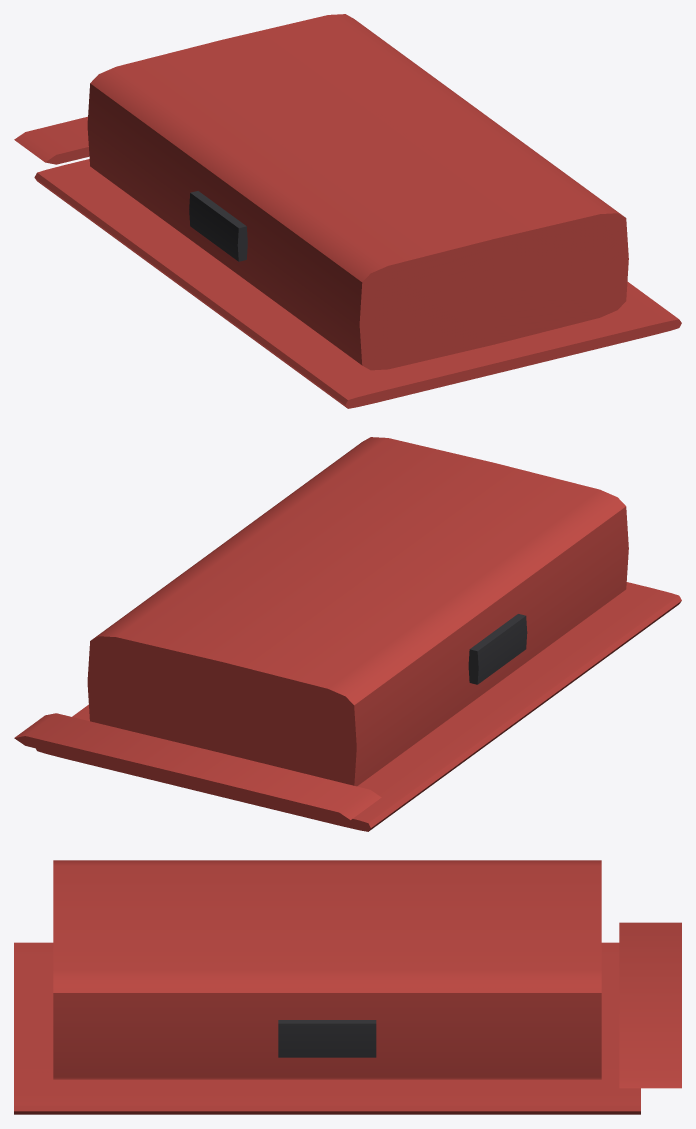
The model's file is bash_box.glb.
3 renders of one model, top to bottom at view 1: azimuth 30°, elevation 25°; view 2: azimuth 150°, elevation 25°; view 3: azimuth 270°, elevation 25°, orthographic.
Parts seen in each view (by area): view 1: lod0; view 2: lod0; view 3: lod0.
Part boxes in pixels (x1,y1,x2,y2): lod0: [14, 14, 681, 408]; lod0: [14, 437, 681, 831]; lod0: [14, 860, 681, 1114].
Size of what is drawn, in the model's own units: 0.2 by 0.067 by 0.341.
